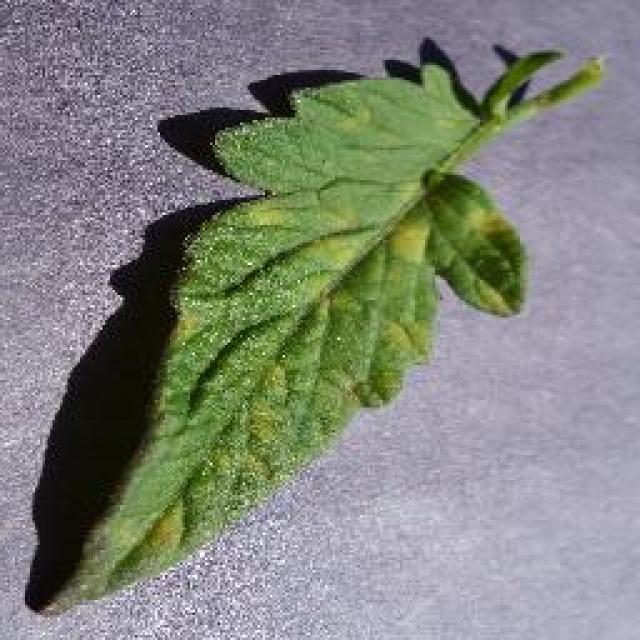leaf mold: (40, 56, 610, 620)
